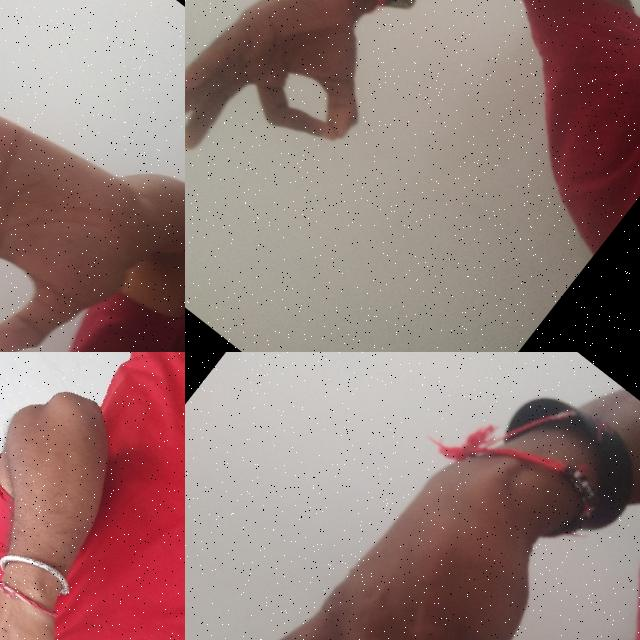Chin Flick: (0, 531, 183, 640)
Moutza: (0, 0, 185, 352)
Okay: (185, 0, 450, 229)
Reversed Victory: (192, 397, 620, 640)
